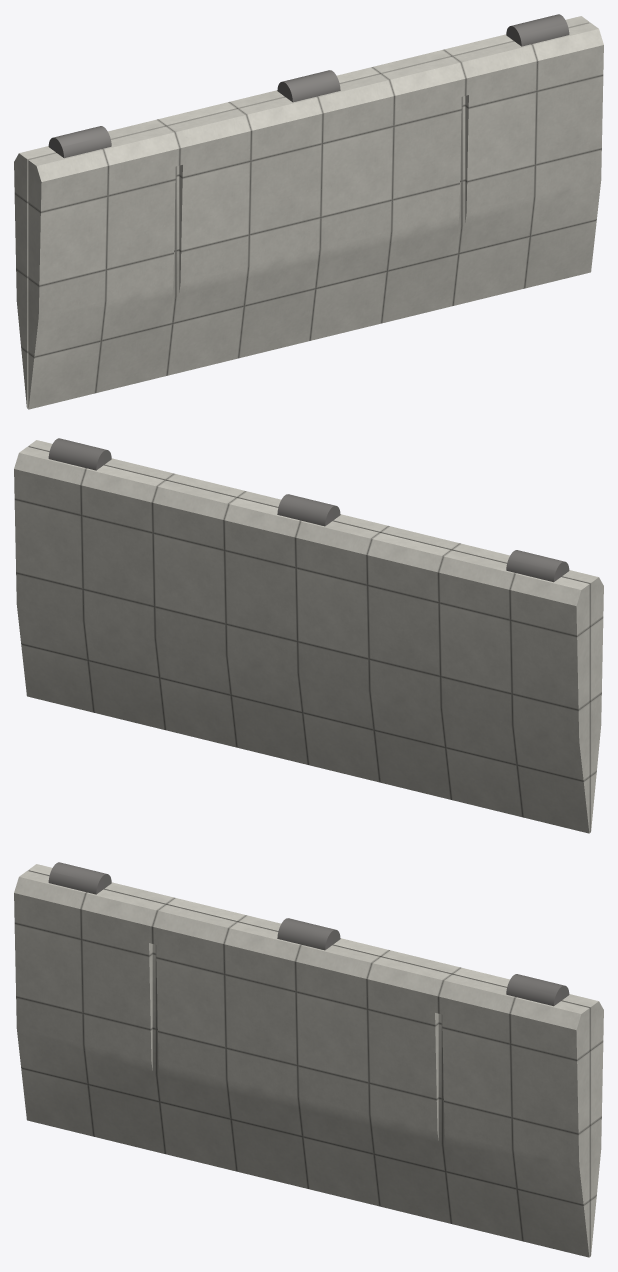
File: ax_aero_24_csr_rudder_brake_s.glb
The picture shows the model from 3 angles, top to bottom: view 1: azimuth 30°, elevation 25°; view 2: azimuth 150°, elevation 25°; view 3: azimuth 330°, elevation 25°; orthographic projection.
Visible parts, largest first — view 1: surface_upper, surface_lower, hinge_fittings; view 2: surface_lower, surface_upper, hinge_fittings; view 3: surface_upper, surface_lower, hinge_fittings.
Boxes of the visible parts, x1,y1,x2,y2 form: surface_upper: (28,22,603,409); surface_lower: (14,16,589,408); hinge_fittings: (48,14,569,158); surface_lower: (14,446,589,833); surface_upper: (28,440,603,832); hinge_fittings: (48,438,569,582); surface_upper: (14,870,589,1257); surface_lower: (28,864,603,1256); hinge_fittings: (48,862,569,1006).
Bounding box in the file's own units: 1.18 × 0.528 × 0.1.
2 materials, 2 textured.
